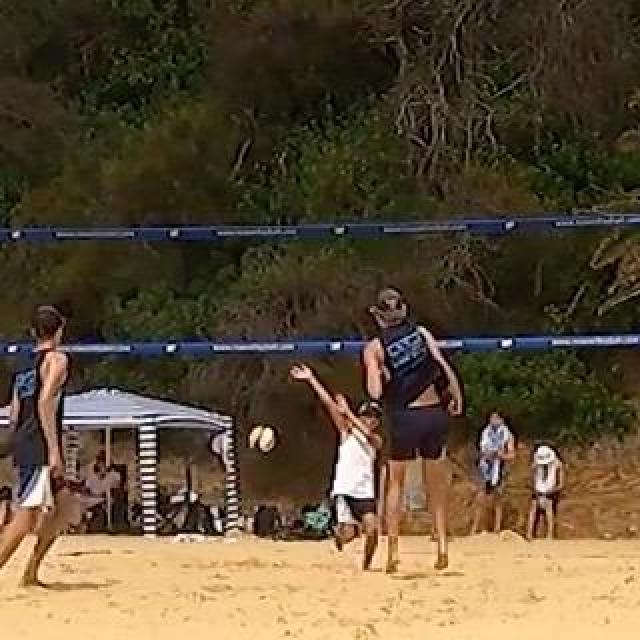volleyball: (250, 427, 278, 455)
